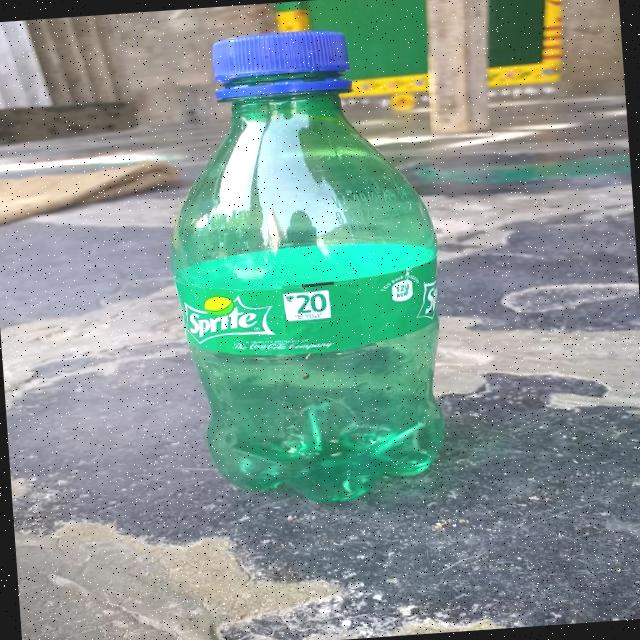bottle: (152, 16, 456, 522)
cap: (206, 24, 348, 82)
label: (160, 260, 488, 368)
